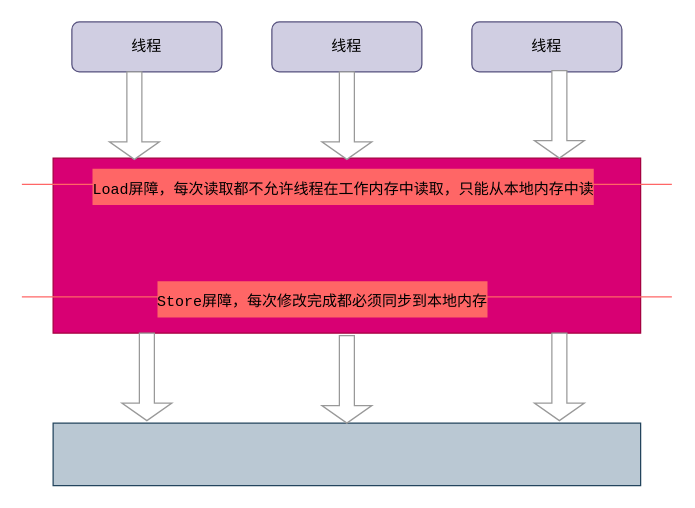
Some shapes in this 695 by 508 pixel diagram are drawn without their labels. Each missing label, with the centre of its shape:
"工作内存" belongs at (346,245).
"本地内存" belongs at (346,454).
